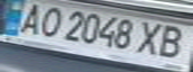0: (78, 11, 103, 46)
2: (57, 9, 87, 43)
4: (96, 15, 121, 49)
8: (115, 16, 139, 52)
A: (9, 1, 48, 35)
B: (151, 24, 193, 61)
O: (30, 4, 66, 38)
X: (133, 19, 172, 56)
